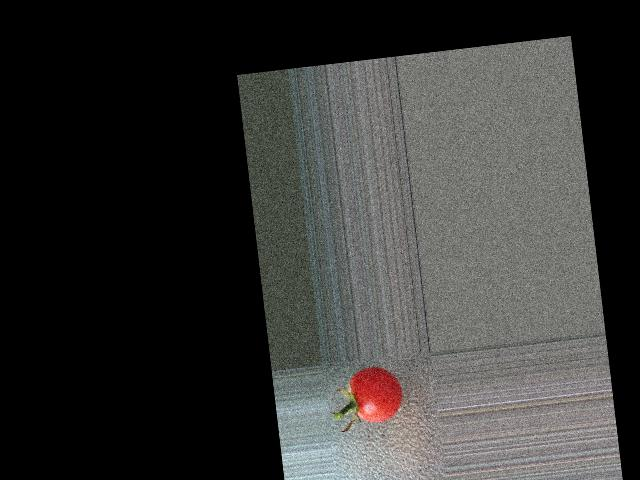tomato: (348, 364, 405, 426)
